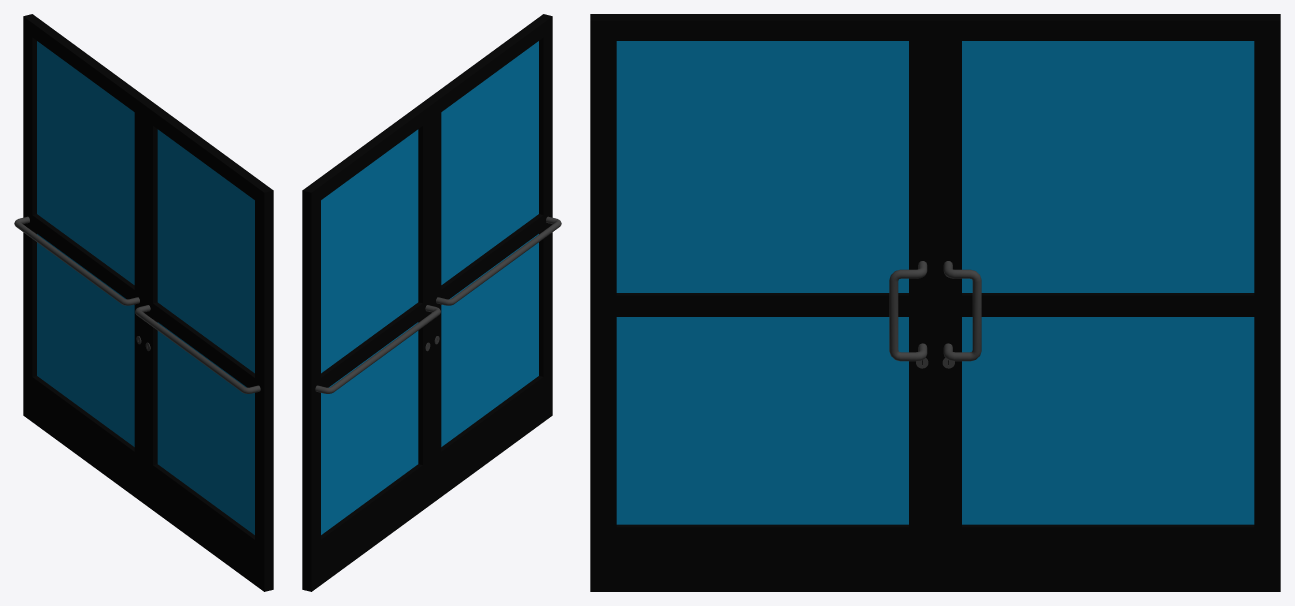
The model's file is Double_Door.fbx.
3 renders of one model, left to right at view 1: azimuth 30°, elevation 25°; view 2: azimuth 150°, elevation 25°; view 3: azimuth 270°, elevation 25°, orthographic. The views are drawn at different scales.
Parts seen in each view (by area): view 1: Door_Double; view 2: Door_Double; view 3: Door_Double.
Boxes of the visible parts, box(x1,y1,x2,y2) form: Door_Double: box(14, 14, 273, 591); Door_Double: box(302, 14, 561, 591); Door_Double: box(590, 14, 1280, 591).
Bounding box in the file's own units: 29.52 × 276 × 302.
